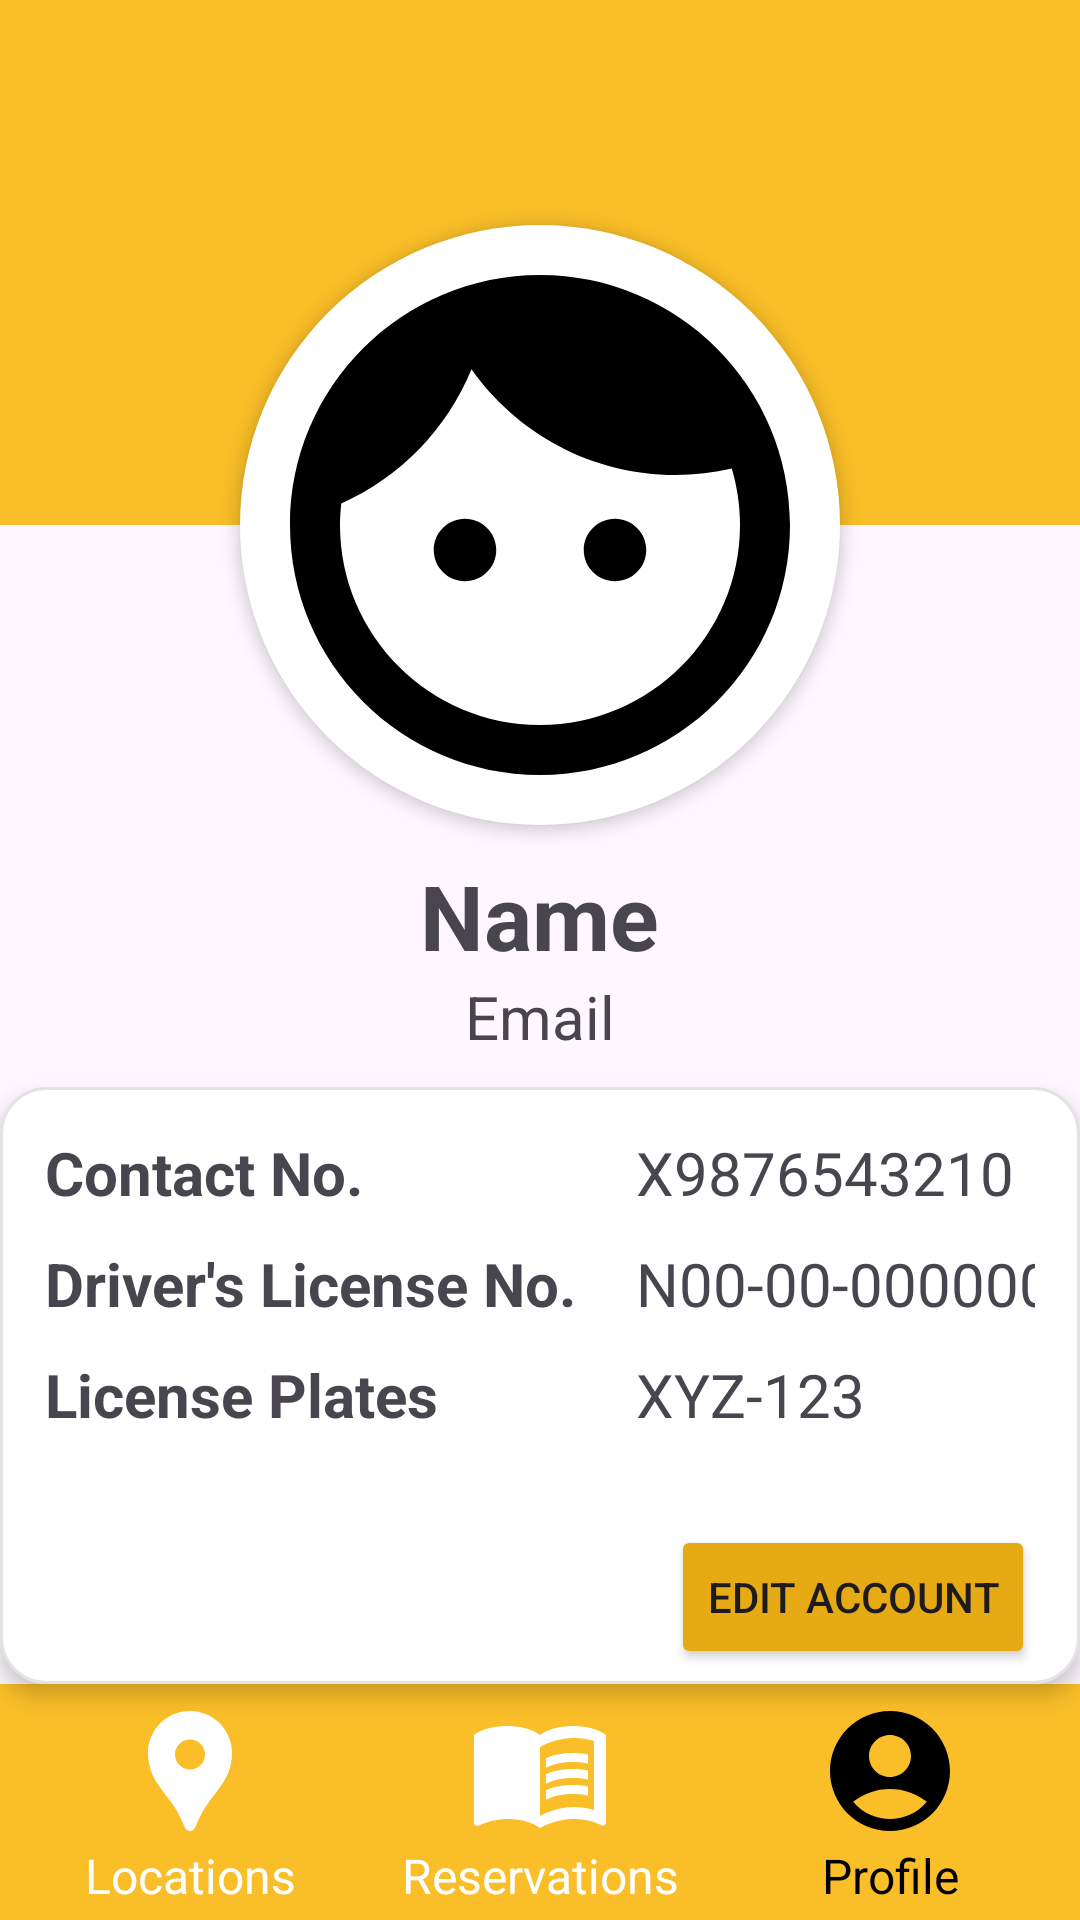

Icon bounding boxes for this 1080×1920 phone screenshot, format (x1, y1, x2, y2):
account circle: (830, 1711, 950, 1831)
book: (474, 1726, 606, 1828)
location pin: (148, 1711, 232, 1831)
